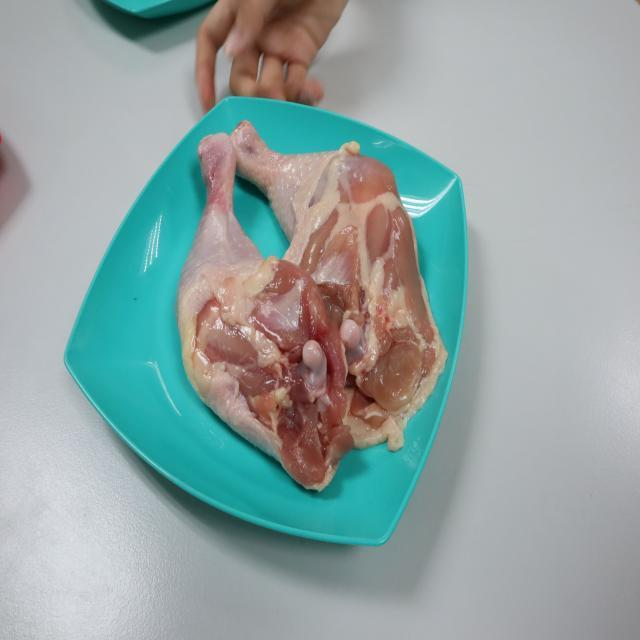quater: (223, 108, 433, 404), (170, 136, 340, 491)
